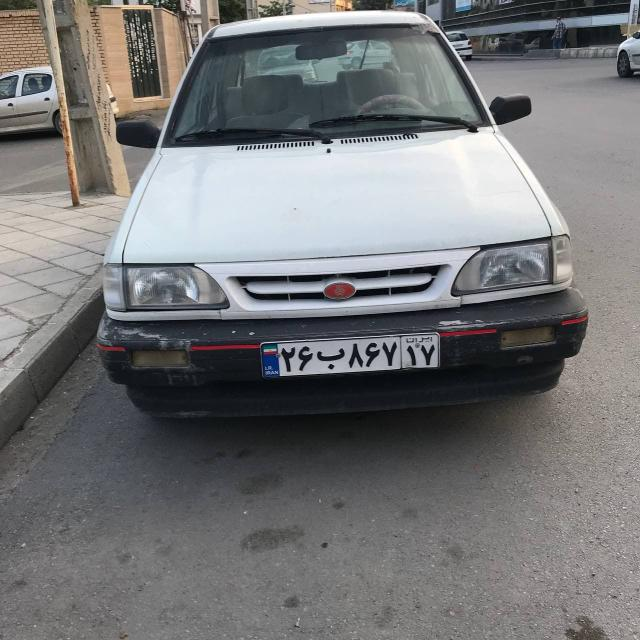Plates: (261, 334, 440, 377)
